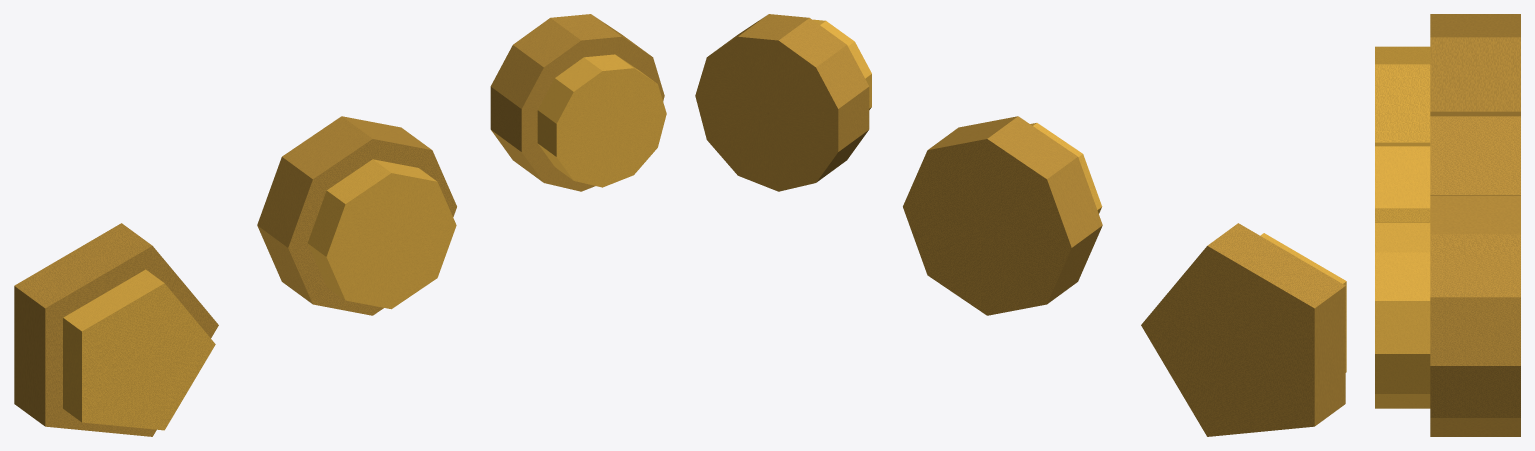
The model's file is reference_decorative_pins.gltf.
3 views of the same model, side by side, from view 1: azimuth 30°, elevation 25°; view 2: azimuth 150°, elevation 25°; view 3: azimuth 270°, elevation 25° (orthographic). The views are drawn at different scales.
Visible parts, largest first — view 1: Decorative Pins; view 2: Decorative Pins; view 3: Decorative Pins.
Boxes of the visible parts, x1=… form: Decorative Pins: x1=14, y1=14, x2=666, y2=436; Decorative Pins: x1=695, y1=14, x2=1346, y2=436; Decorative Pins: x1=1375, y1=14, x2=1520, y2=436.
Size of the model in its own units: 0.1612 by 0.0726 by 0.0225.
Materials: 2 (2 with a texture image).
